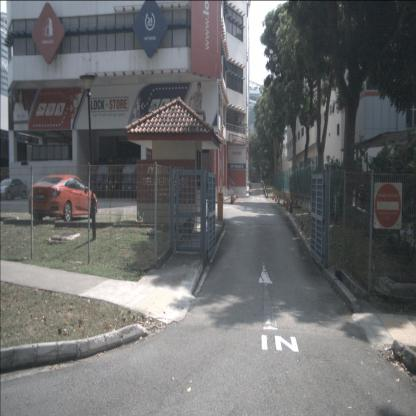cone: (289, 198, 293, 213), (282, 194, 286, 206), (285, 198, 289, 210), (232, 192, 236, 202), (230, 193, 233, 204), (277, 194, 280, 204), (236, 190, 239, 199), (272, 192, 275, 200), (234, 192, 237, 200), (275, 192, 277, 202)
